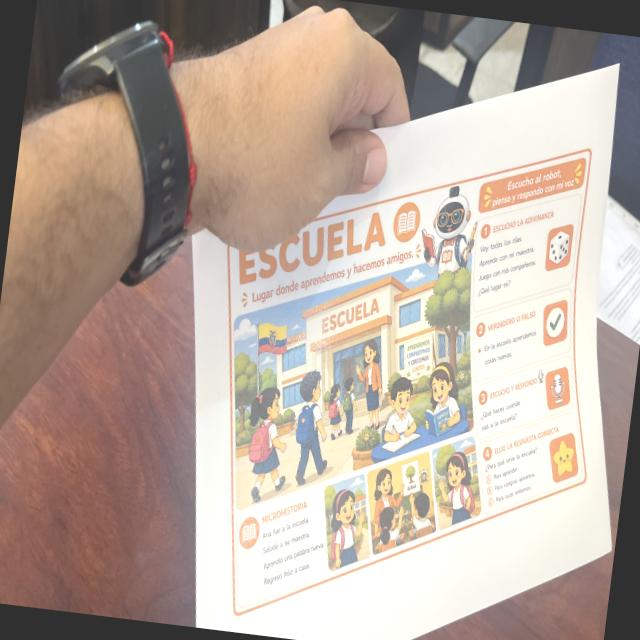escuela: (173, 98, 630, 640)
